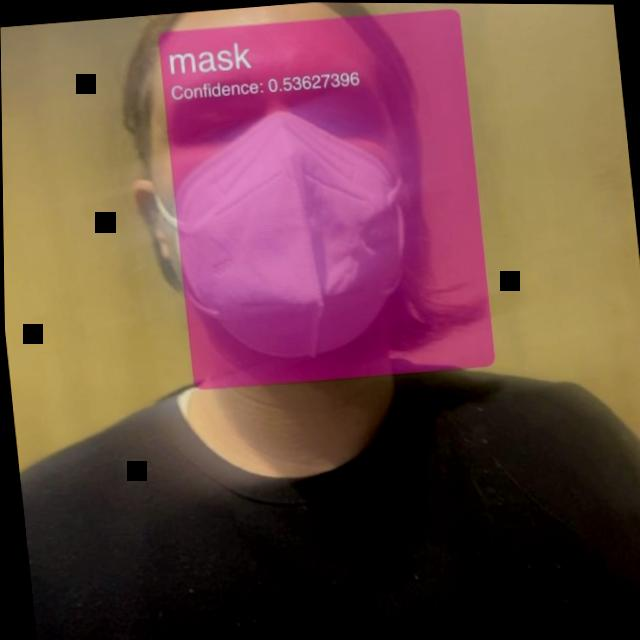Mask: (86, 1, 504, 416)
